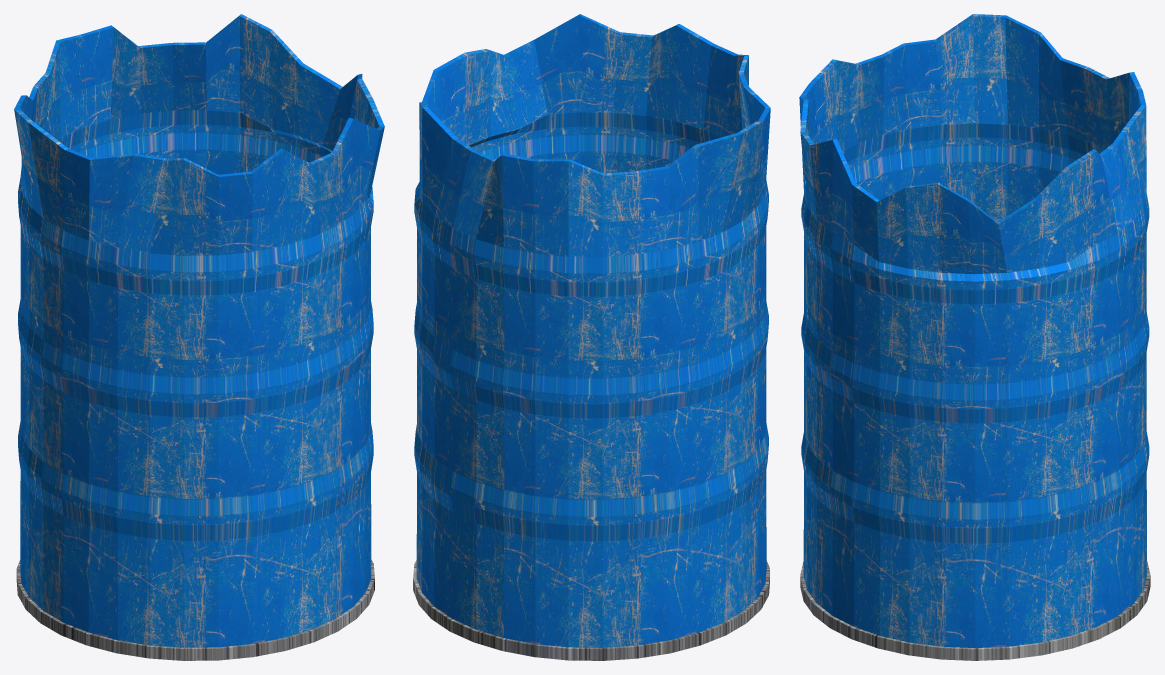
The model's file is barrel4.fbx.
3 renders of one model, left to right at view 1: azimuth 30°, elevation 25°; view 2: azimuth 150°, elevation 25°; view 3: azimuth 270°, elevation 25°, orthographic. The views are drawn at different scales.
Parts seen in each view (by area): view 1: Cylinder.003; view 2: Cylinder.003; view 3: Cylinder.003.
Boxes of the visible parts, x1=… form: Cylinder.003: x1=14, y1=14, x2=384, y2=660; Cylinder.003: x1=413, y1=14, x2=770, y2=660; Cylinder.003: x1=799, y1=14, x2=1150, y2=660.
Bounding box in the file's own units: 299 × 436 × 282.
